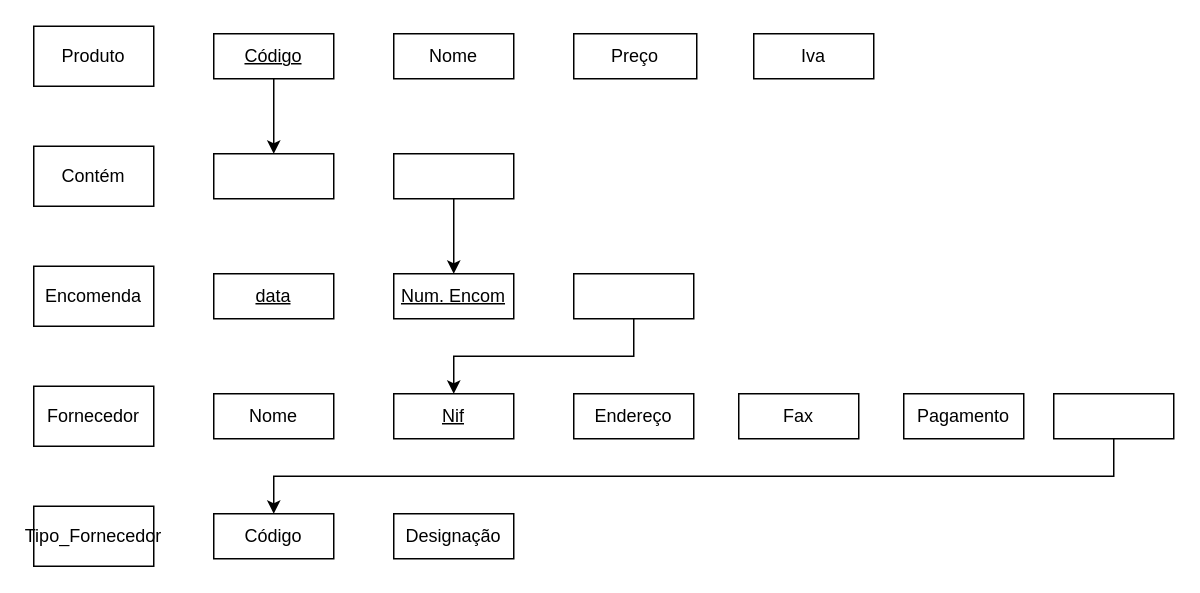
Image size: 1200x593. Some labels were removed from this diagram. Each missing label, with the box of its shape:
Cod_forn: (1052, 392, 1174, 439)
forn_nif: (572, 272, 694, 319)
Num. Encom.: (392, 152, 514, 199)
Prod. Cod: (212, 152, 334, 199)
